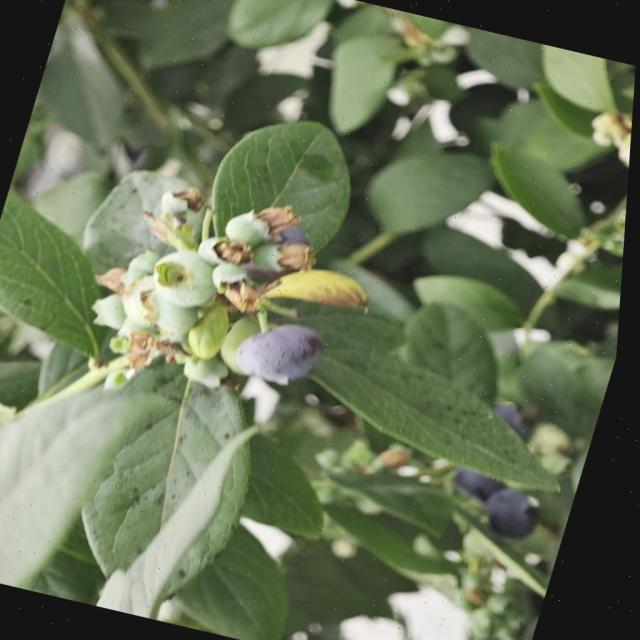RipeBlueBerry: (238, 313, 334, 391), (487, 482, 557, 544)
